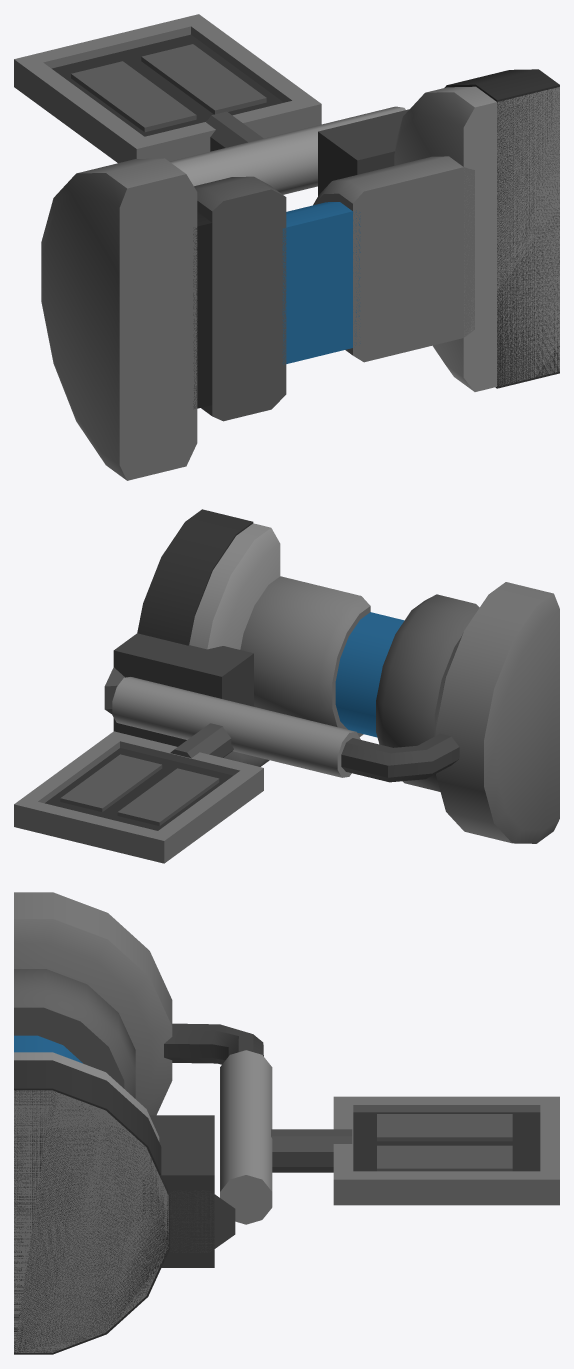
Rendered from newshl-7.glb.
The picture shows the model from 3 angles, top to bottom: view 1: azimuth 30°, elevation 25°; view 2: azimuth 150°, elevation 25°; view 3: azimuth 270°, elevation 25°; orthographic projection. The views are drawn at different scales.
Visible parts, largest first — view 1: newshl-7; view 2: newshl-7; view 3: newshl-7.
Part boxes in pixels (x1,y1,x2,y2): newshl-7: (14,14,559,480); newshl-7: (14,509,559,863); newshl-7: (14,892,559,1354).
Bounding box in the file's own units: 1.98 × 1.26 × 2.31.
